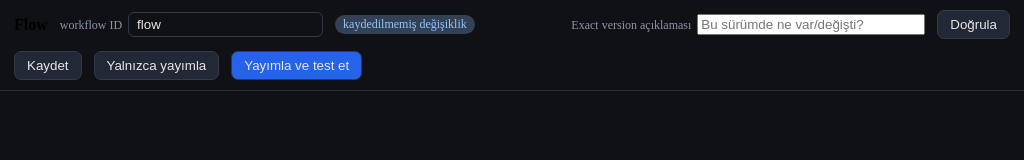
Test: workflow publish feedback › still guards the combined action against a missing version note
This screenshot has width=1024, height=160.
Click the button "Yayımla ve test et": (297, 66) [231,51,362,80]
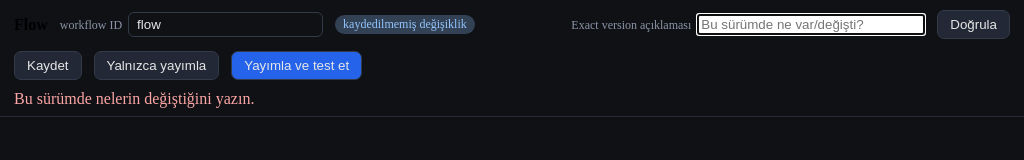
Expected: the message reads "Bu sürümde nelerin değiştiğini yazın.", [14,90,254,107]
